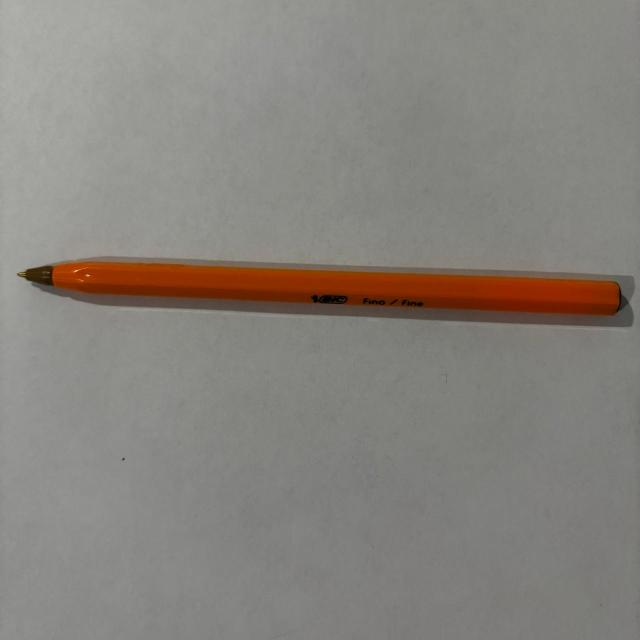pencil: (17, 260, 622, 315)
